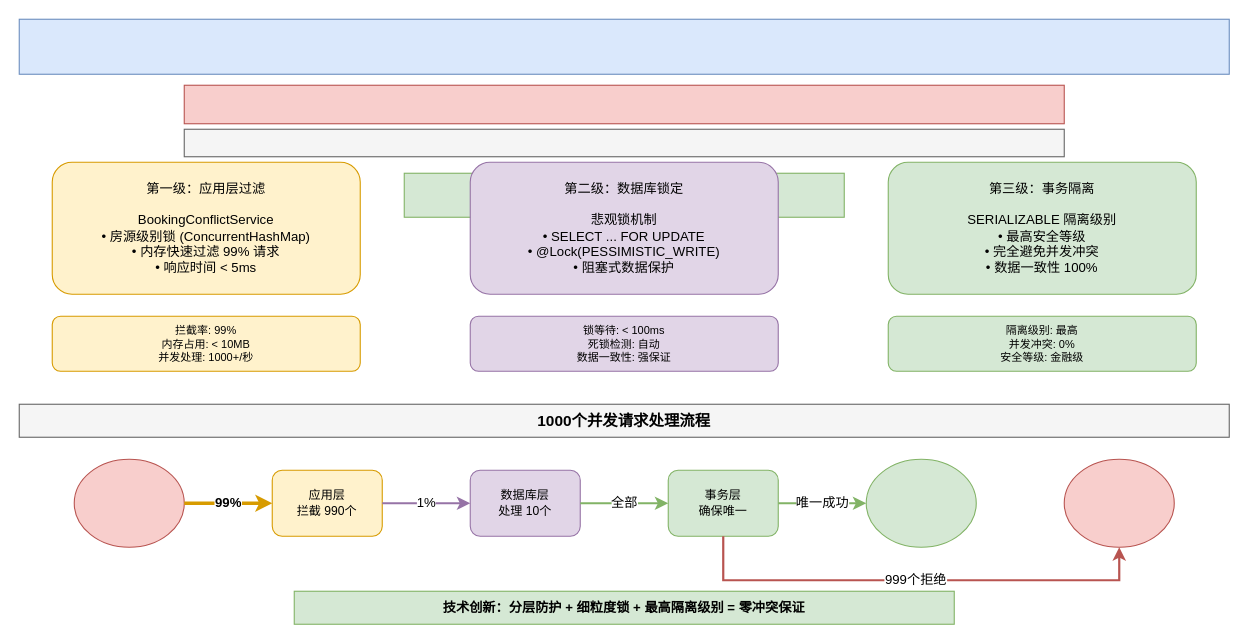
This 1249x644 diagram has some shape labels left out. Each missing label, with the centre of its shape:
"1000个 并发请求" belongs at point (128, 502).
"1个成功 订单创建" belongs at point (920, 502).
"999个 安全拒绝" belongs at point (1118, 502).
"核心价值：系统性解决高并发冲突，从架构层面保障数据一致性，达到金融级安全标准" belongs at point (623, 142).
"核心挑战：高并发预订冲突 - 同一房源同一日期的重复预订问题" belongs at point (623, 104).
"金融级交易安全设计 - 三级纵深防御体系" belongs at point (623, 46).
